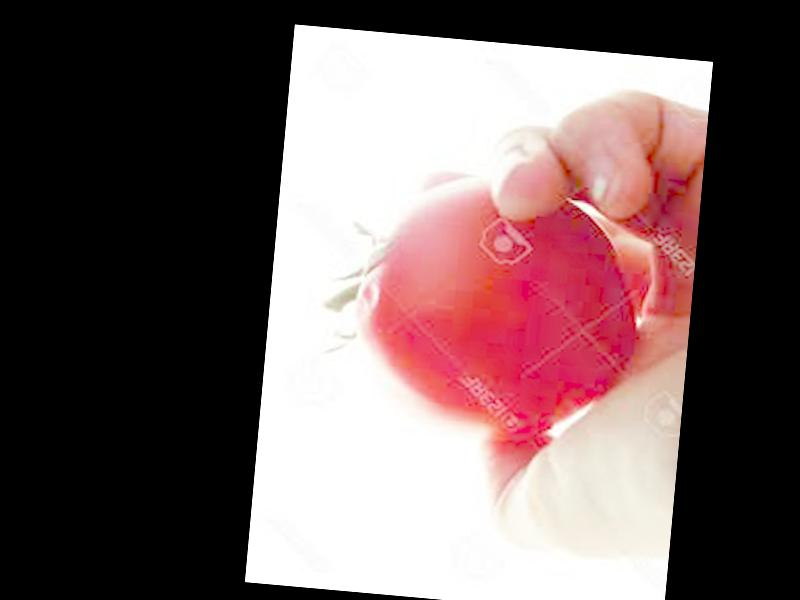Tomato: (342, 165, 644, 447)
